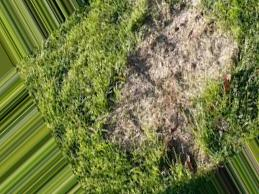patch: (143, 15, 218, 96), (132, 56, 187, 125), (158, 13, 219, 74), (144, 84, 191, 156), (105, 93, 158, 148)
